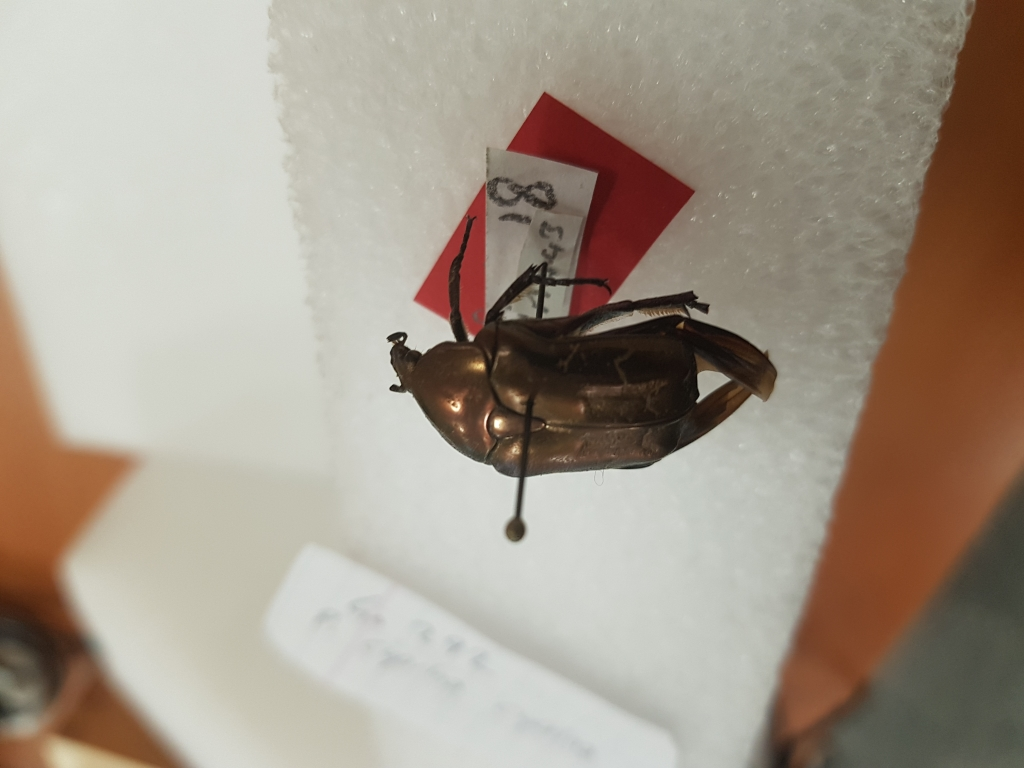Protaetia_cuprina_cuprina: (376, 204, 786, 485)
